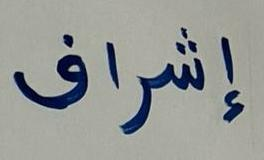alef: (98, 30, 122, 98)
feh: (11, 27, 95, 126)
hamza: (212, 25, 252, 129)
reh: (124, 66, 156, 140)
sheen: (158, 11, 208, 109)
